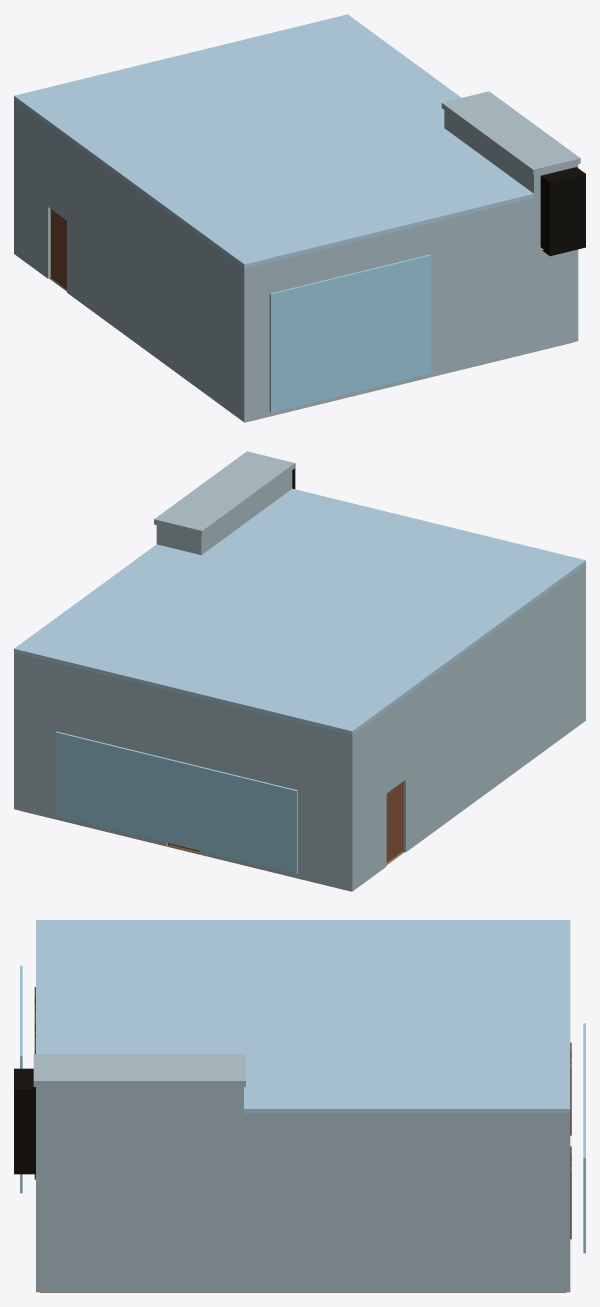
File: room_living.glb
The picture shows the model from 3 angles, top to bottom: view 1: azimuth 30°, elevation 25°; view 2: azimuth 150°, elevation 25°; view 3: azimuth 270°, elevation 25°; orthographic projection. The views are drawn at different scales.
Parts seen in each view (by area): view 1: CEILING, WALLS, VIEW_window, SHAFT, STAIRWELL, DOOR_corridor; view 2: CEILING, WALLS, VIEW_window_s, SHAFT, DOOR_corridor; view 3: CEILING, WALLS, SHAFT, STAIRWELL, VIEW_window_s, FLOOR_visible, FRAMES.
Boxes of the visible parts, x1,y1,x2,y2 form: CEILING: (14,14,534,268); WALLS: (14,100,578,422); VIEW_window: (269,254,431,412); SHAFT: (441,91,580,249); STAIRWELL: (540,167,585,256); DOOR_corridor: (51,209,66,288); CEILING: (14,488,585,735); WALLS: (14,564,585,891); VIEW_window_s: (55,731,297,874); SHAFT: (154,451,294,555); DOOR_corridor: (386,782,402,862); CEILING: (36,920,570,1113); WALLS: (36,1113,570,1292); SHAFT: (33,1054,245,1173); STAIRWELL: (14,1068,35,1174); VIEW_window_s: (583,1023,585,1253); FLOOR_visible: (40,1292,565,1292); FRAMES: (34,987,571,1239).
Bounding box in the file's own units: 10.25 × 5.41 × 13.06.
